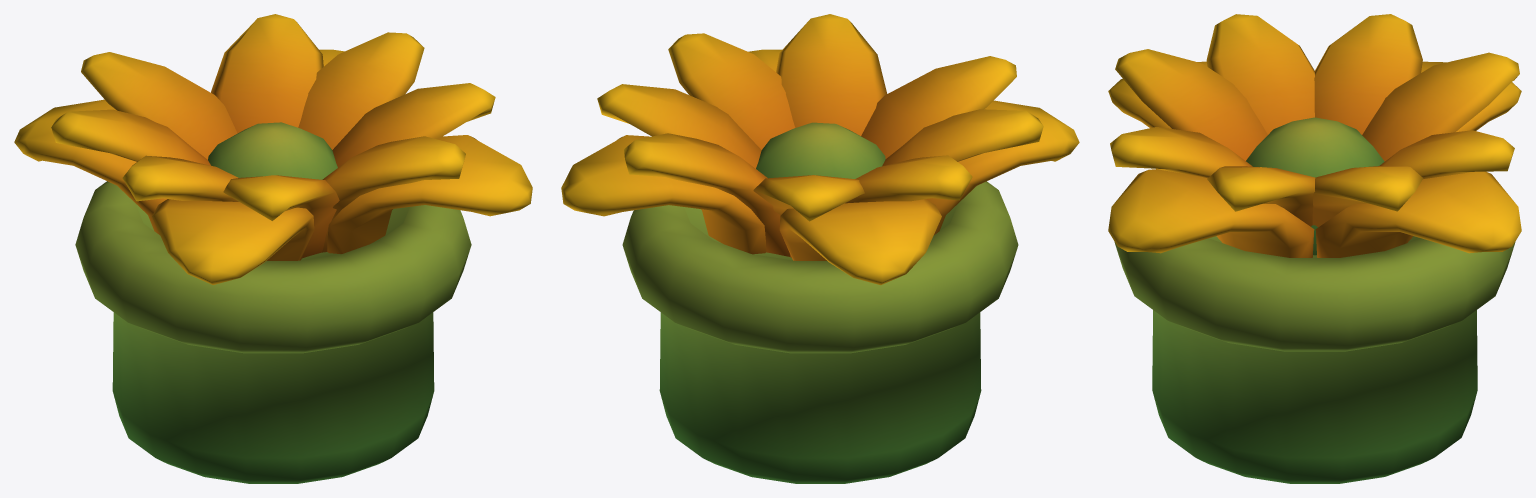
The model's file is Flower03.fbx.
3 renders of one model, left to right at view 1: azimuth 30°, elevation 25°; view 2: azimuth 150°, elevation 25°; view 3: azimuth 270°, elevation 25°, orthographic.
Visible parts, largest first — view 1: Flower03; view 2: Flower03; view 3: Flower03.
Part boxes in pixels (box(x1,y1,x2,y2)): Flower03: box(14, 14, 532, 483); Flower03: box(561, 14, 1079, 483); Flower03: box(1108, 14, 1521, 483).
Bounding box in the file's own units: 61.7 × 52.42 × 59.92.
